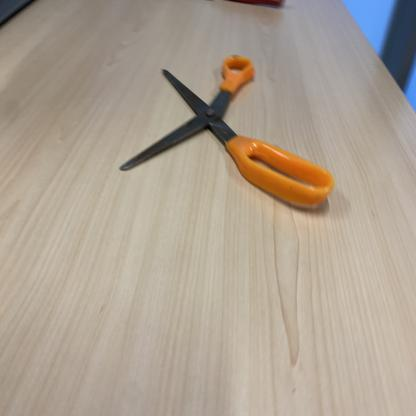scissors: (117, 52, 338, 214)
